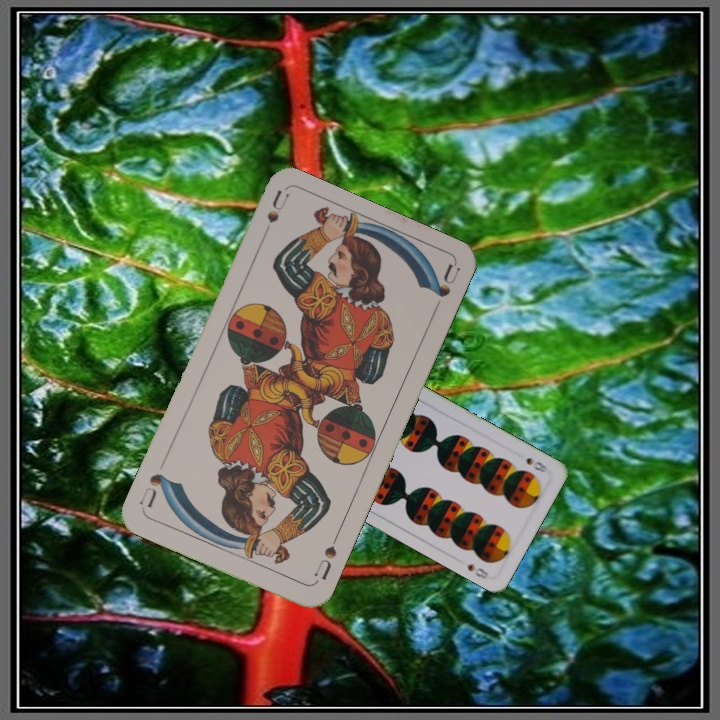S8: (522, 453, 553, 475)
SU: (256, 187, 292, 245), (310, 530, 342, 586)
